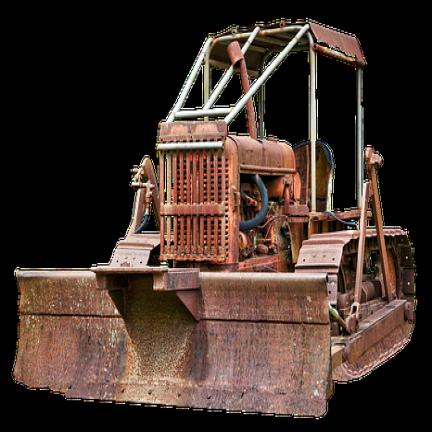karat: (13, 152, 416, 418)
